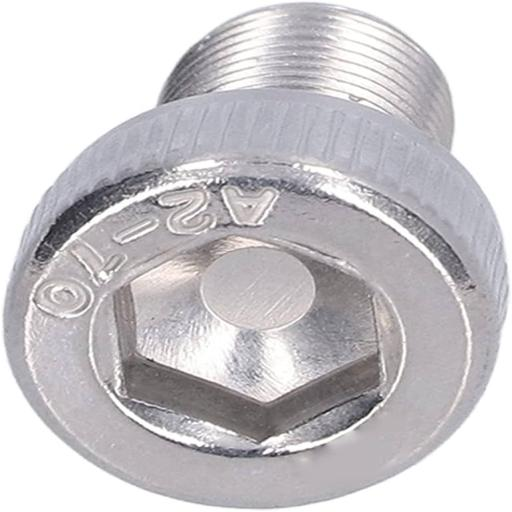Hex-Allen: (10, 89, 507, 505)
